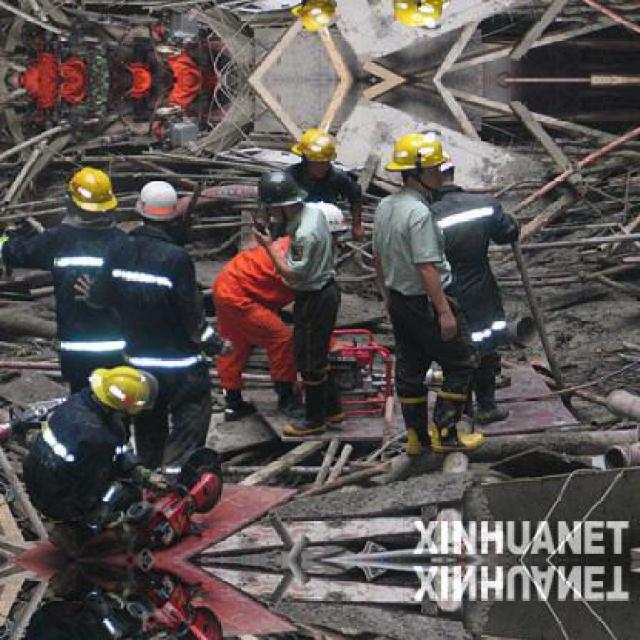helmet: (84, 368, 153, 417), (386, 132, 446, 188), (66, 168, 119, 220), (255, 171, 308, 217), (292, 127, 336, 178), (135, 181, 179, 225), (385, 0, 446, 29), (291, 0, 337, 34)
